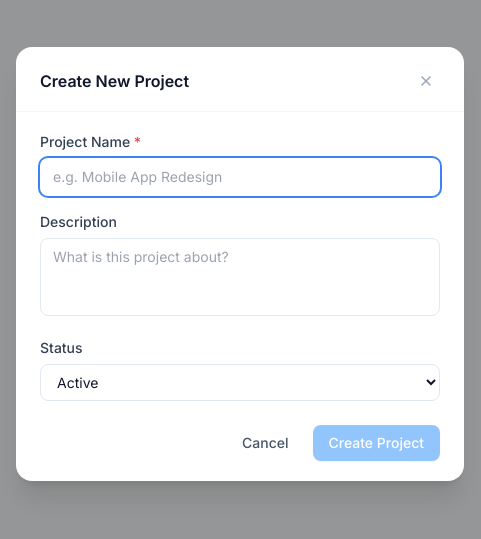
Test: CreateProjectDialog › shows server error when API returns error
Type "Over Limit" into the field labelled "Project Name *" at (240, 177), box [40,158,440,196]
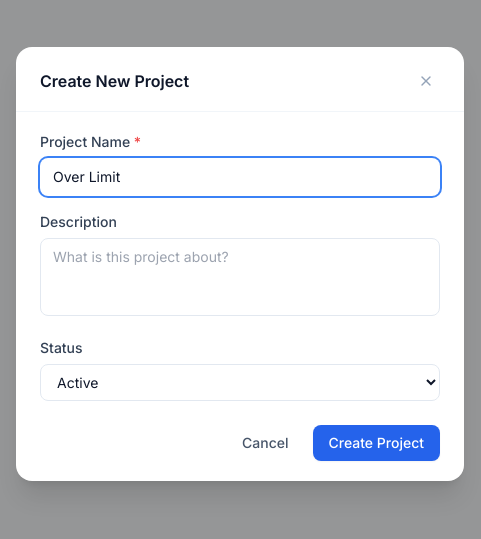
Click the button "Create Project" at (376, 443), box [312,425,440,461]
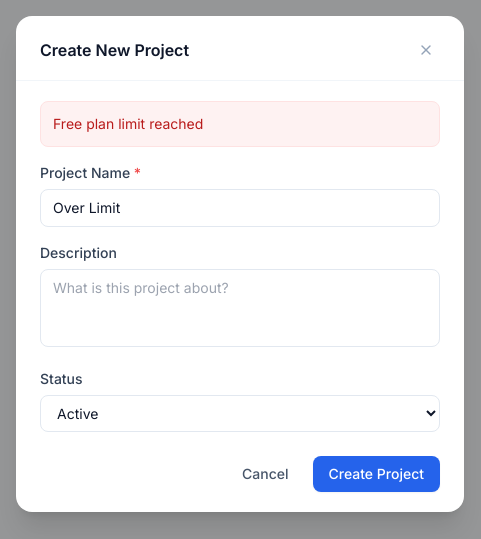
Check: the text "Free plan limit reached" is shown, box [40,101,440,147]
